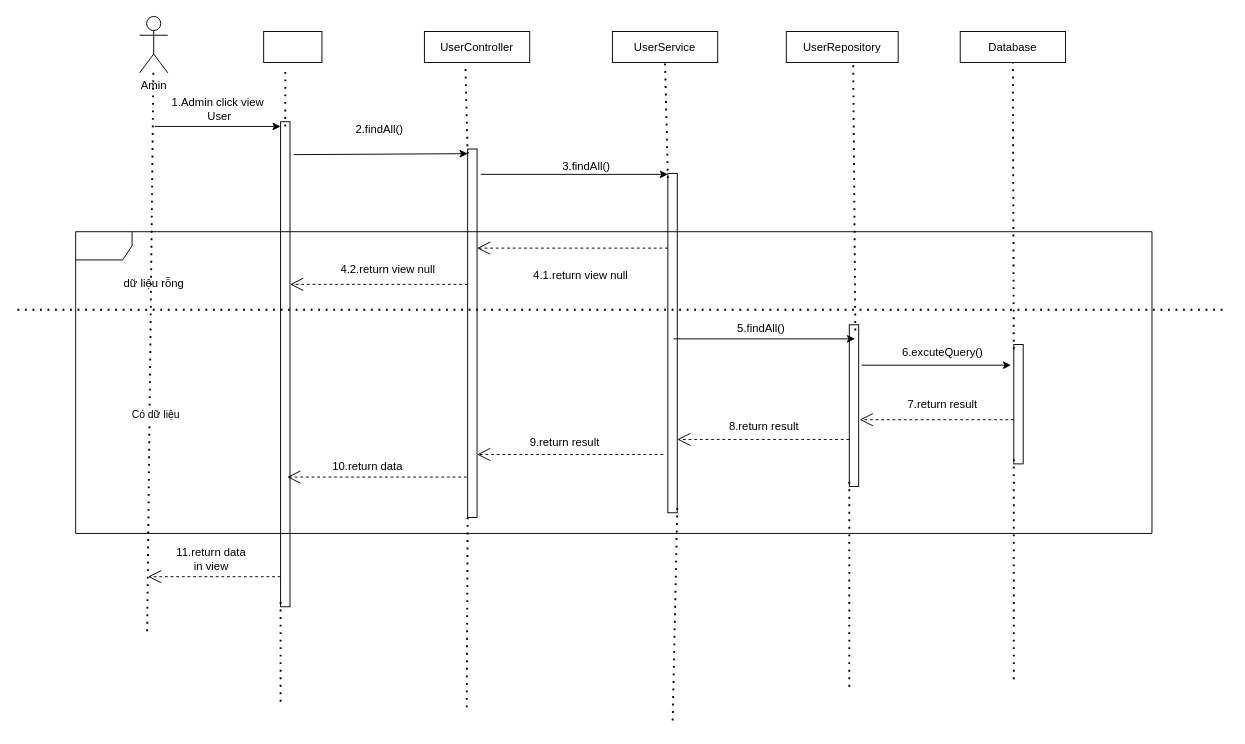
The diagram is 1245 pixels wide and 744 high, and some of its shapes have lost their labels. Here are the shapes that lost their labels. From the top down, the box of each, then its label:
(263, 31, 322, 63): view
(75, 231, 1152, 533): kiểm tra dữ liệu
